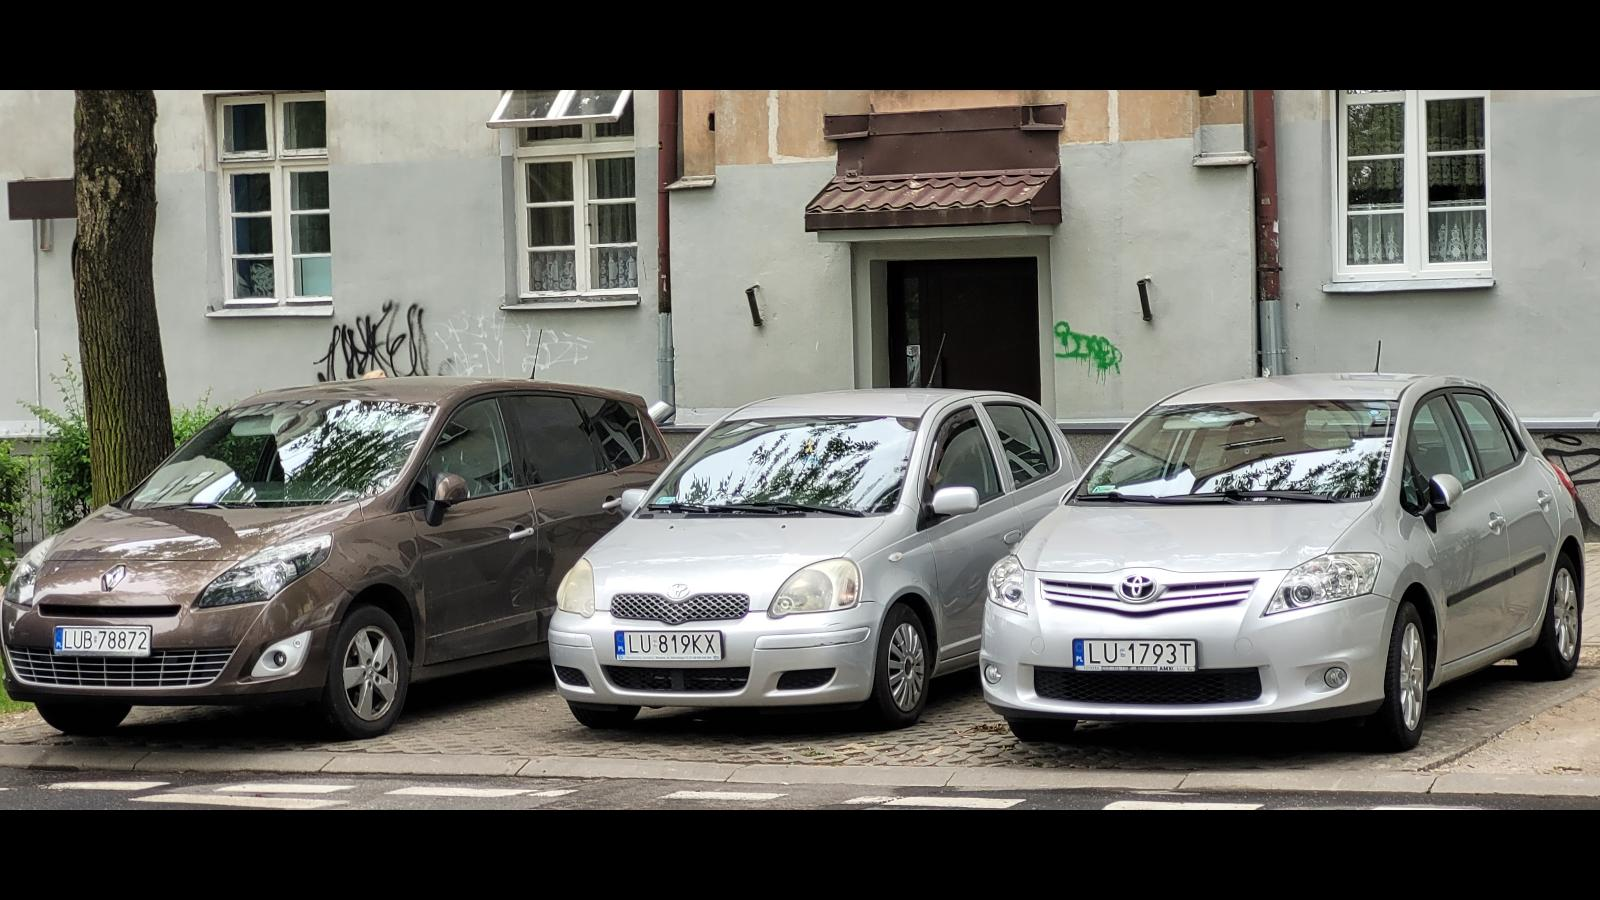plates: (1072, 638, 1198, 672), (614, 631, 724, 661), (54, 627, 150, 657)
